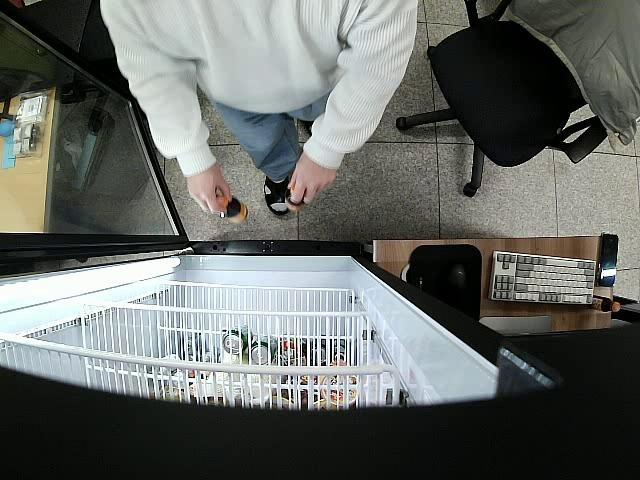17_vita500: (213, 190, 250, 224), (285, 182, 308, 214)
